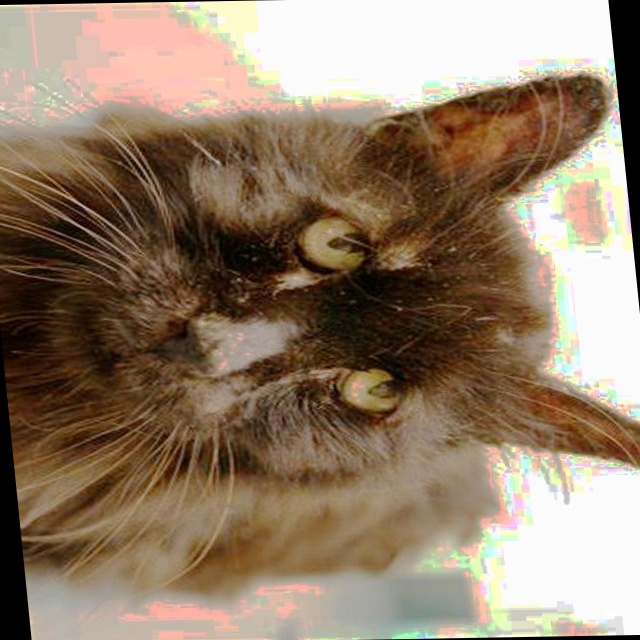ringworm: (446, 82, 596, 175)
